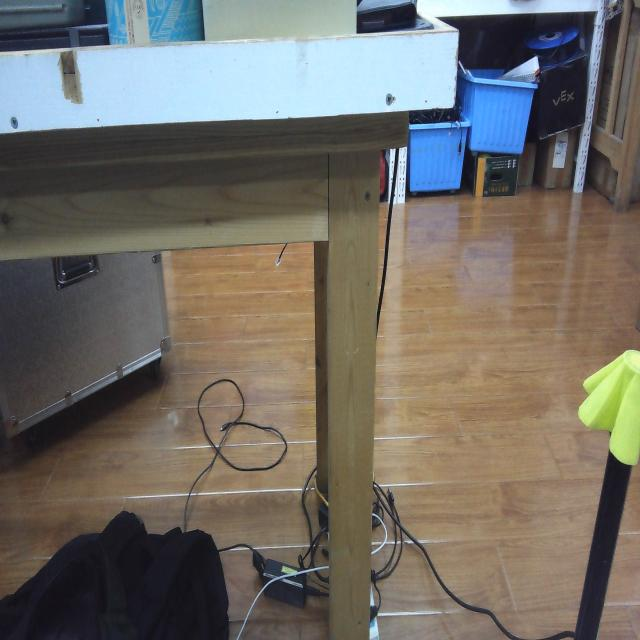Yellow-Stake-Head: (578, 348, 638, 467)
